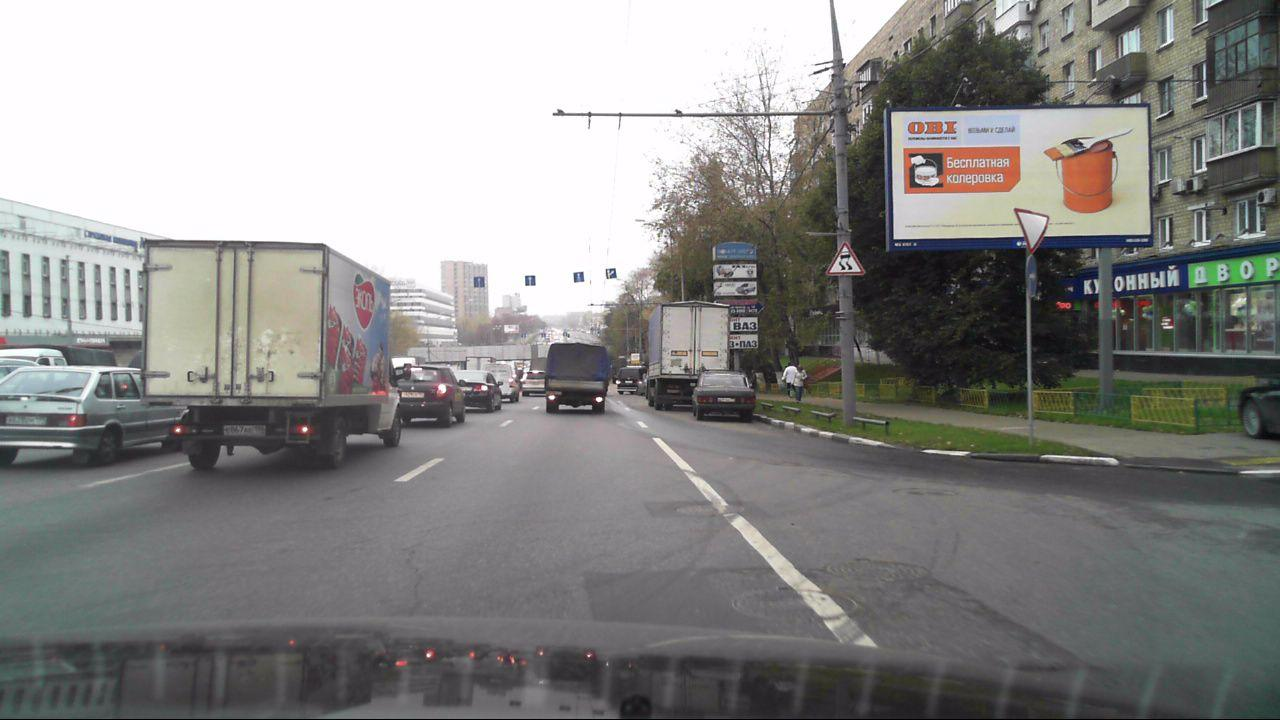1_15: (825, 243, 864, 276)
2_4: (1011, 206, 1052, 253)
4_1_2: (1023, 255, 1039, 295)
5_15_2: (573, 270, 585, 284), (604, 267, 619, 278), (473, 276, 486, 287), (524, 275, 536, 286)
